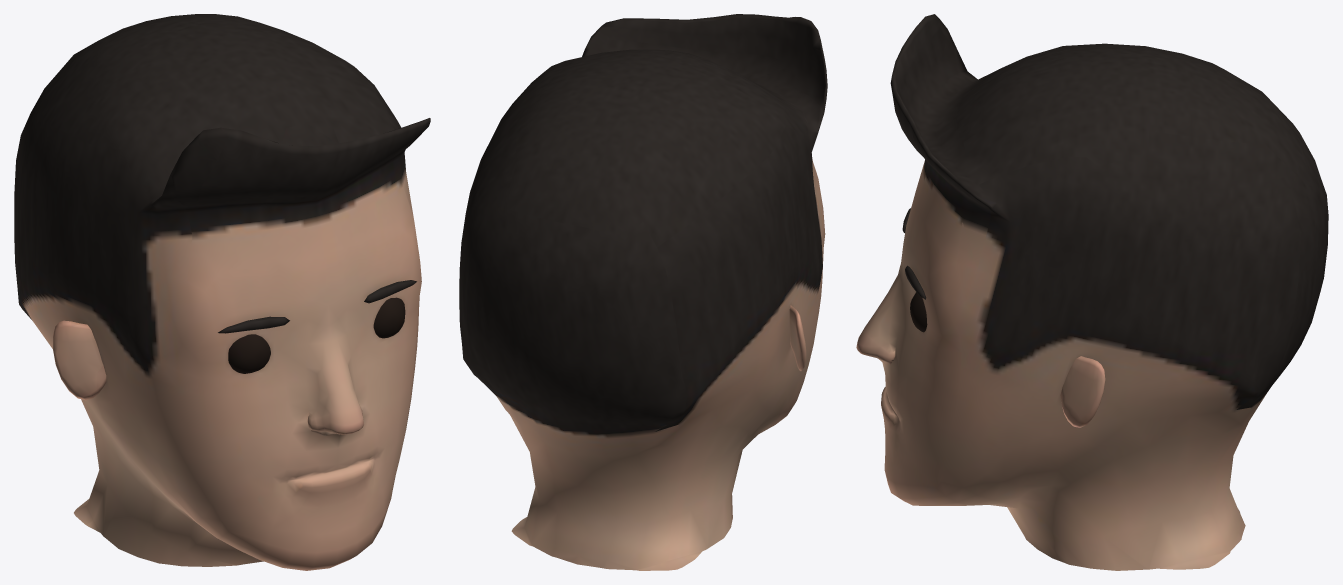
The model's file is PH_NPC__OfficeMan_Head.fbx.
3 renders of one model, left to right at view 1: azimuth 30°, elevation 25°; view 2: azimuth 150°, elevation 25°; view 3: azimuth 270°, elevation 25°, orthographic. The views are drawn at different scales.
Visible parts, largest first — view 1: PH_NPC__OfficeMan_Head; view 2: PH_NPC__OfficeMan_Head; view 3: PH_NPC__OfficeMan_Head.
Boxes of the visible parts, bbox=[...] form: PH_NPC__OfficeMan_Head: bbox=[14, 14, 430, 570]; PH_NPC__OfficeMan_Head: bbox=[459, 14, 827, 570]; PH_NPC__OfficeMan_Head: bbox=[856, 14, 1328, 570].
Size of the model in its own units: 0.1946 by 0.2673 by 0.2443.
